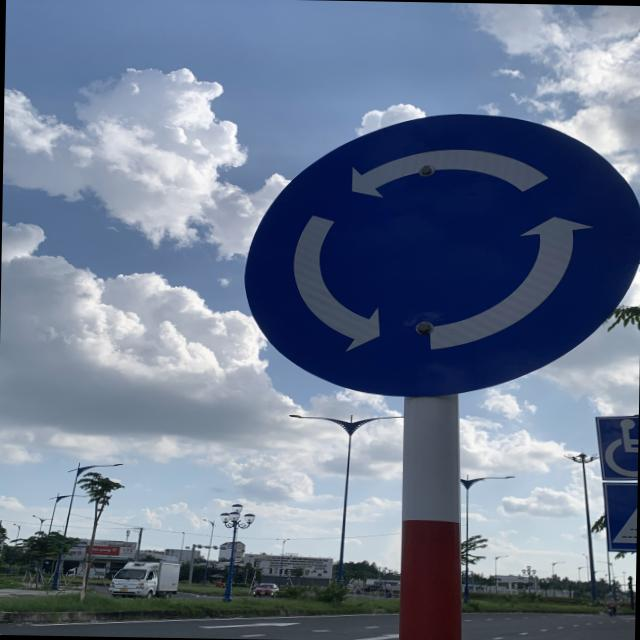Xe_Bus: (241, 108, 640, 400)
